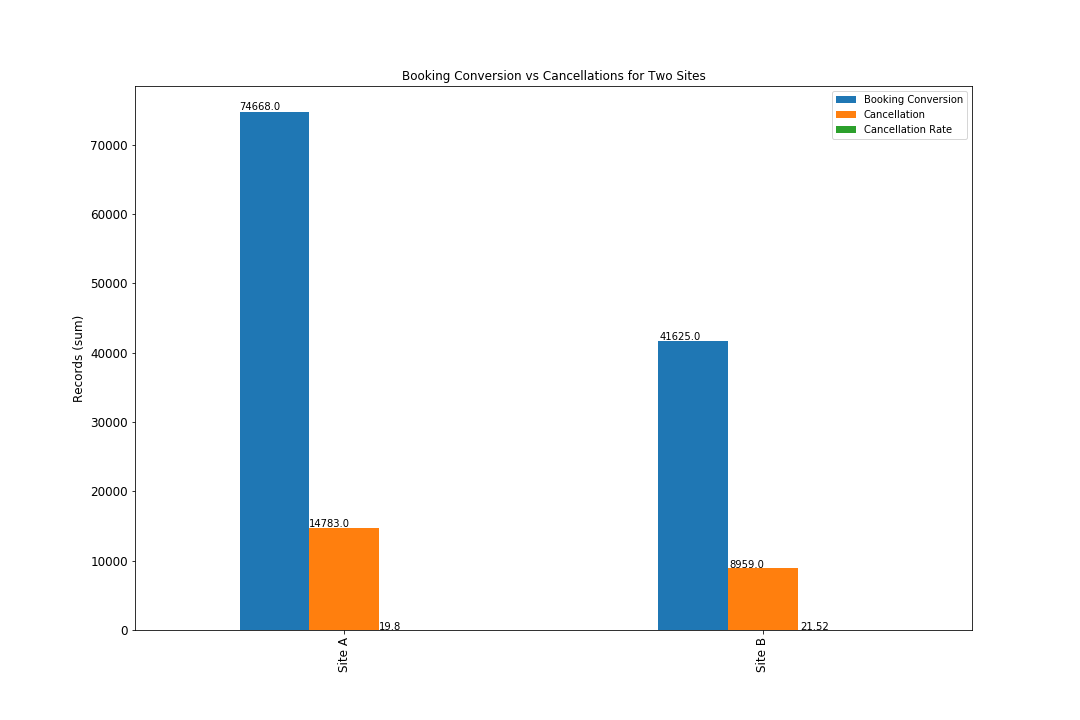

The dashboard page shown, as its layout file describes it:
{"tool":"tableau","page":{"name":"BarChart","canvas":[1000,800],"ordinal":1},"visuals":[{"type":"filter","title":"All-Viz-1","param":"[federated.0fqd9971pobdc41fchzsx0ctk5mb].[none:Site:nk]","box":[8,8,143,75]},{"type":"filter","title":"All-Viz-1","param":"[federated.0fqd9971pobdc41fchzsx0ctk5mb].[none:Year of Date Id:nk]","box":[151,8,182,75]},{"type":"filter","title":"All-Viz-1","param":"[federated.0fqd9971pobdc41fchzsx0ctk5mb].[none:Measure Names:nk]","box":[333,8,353,75]},{"type":"filter","title":"All-Viz-1","param":"[federated.0fqd9971pobdc41fchzsx0ctk5mb].[none:Supplier Type:nk]","box":[686,8,146,75]},{"type":"filter","title":"All-Viz-1","param":"[federated.0fqd9971pobdc41fchzsx0ctk5mb].[none:Person Type:nk]","box":[832,8,160,75]},{"type":"worksheet","title":"All-Viz-1","mark":"Automatic","rows":["Measure Names","Person Type","Site","Supplier Type"],"cols":["Measure Values"],"box":[8,83,984,709]}]}

Visuals, with their boxes on the page's 1000x800 design canvas (x1, y1, x2, y2). These are canvas units, not pixel positions in the 1080x720 screenshot, which may show the page scaled, cropped or inside an application window:
"All-Viz-1" filter: (8, 8, 151, 83)
"All-Viz-1" filter: (151, 8, 333, 83)
"All-Viz-1" filter: (333, 8, 686, 83)
"All-Viz-1" filter: (686, 8, 832, 83)
"All-Viz-1" filter: (832, 8, 992, 83)
"All-Viz-1" worksheet: (8, 83, 992, 792)
